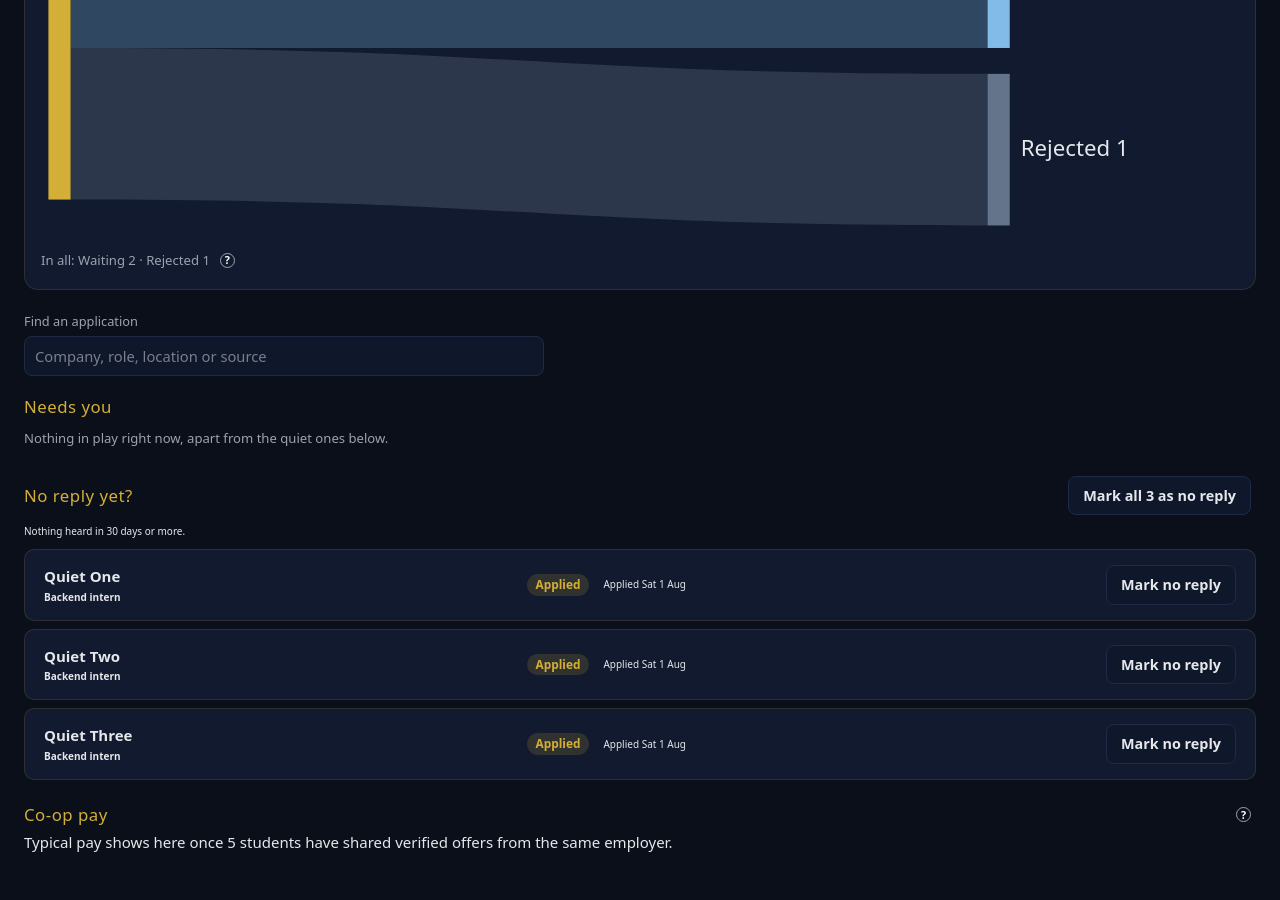
Test: marking every quiet one (D9) › says how far it got when one fails, and stops there
(page scrolled)
expect the text "Quiet One" is shown: met, box [44,565,120,588]
Click the button "Mark all 3 as no reply".
click(1160, 495)  # box [1068,476,1251,515]
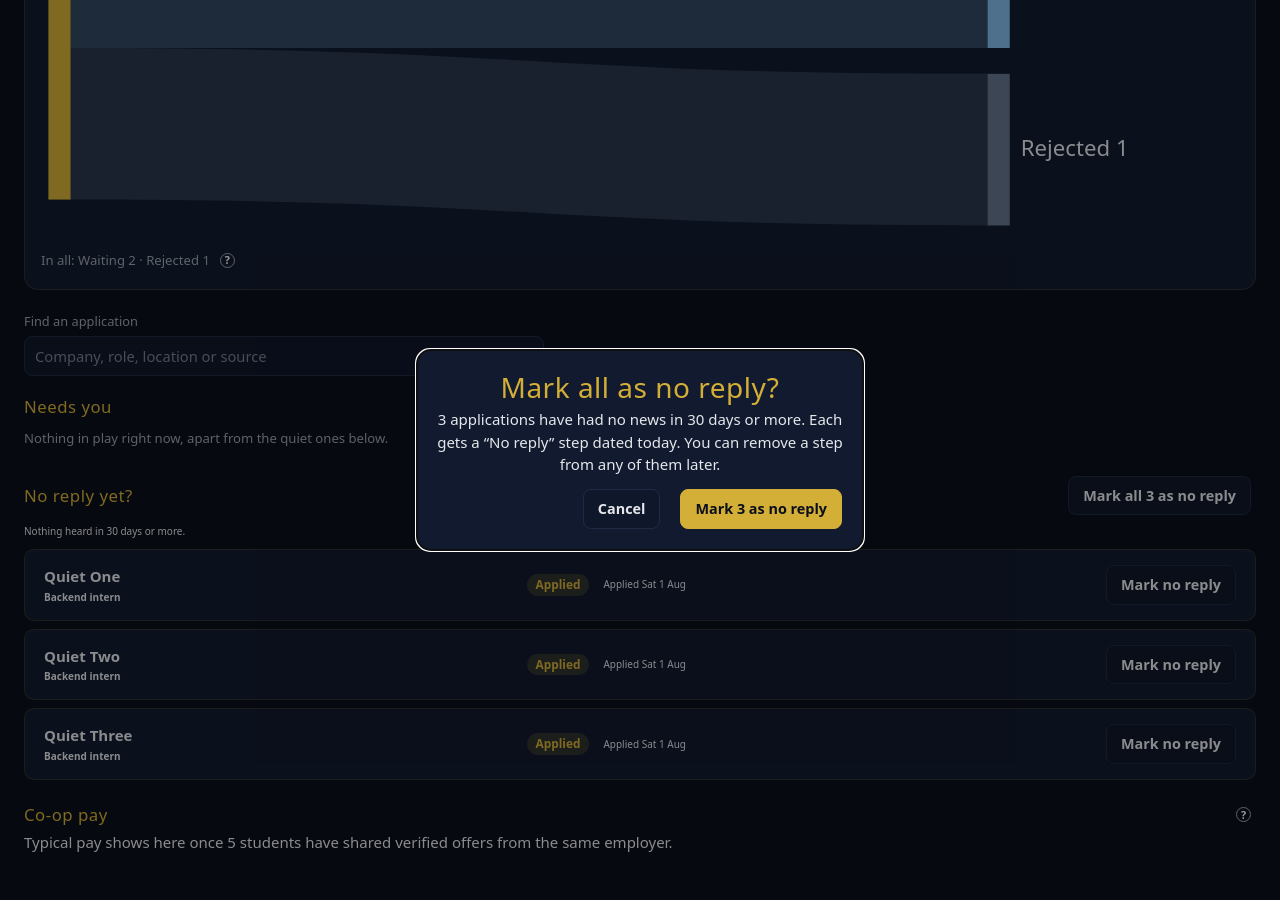
Click the button "Mark 3 as no reply".
click(761, 509)  # box [680,489,842,528]
(page scrolled)
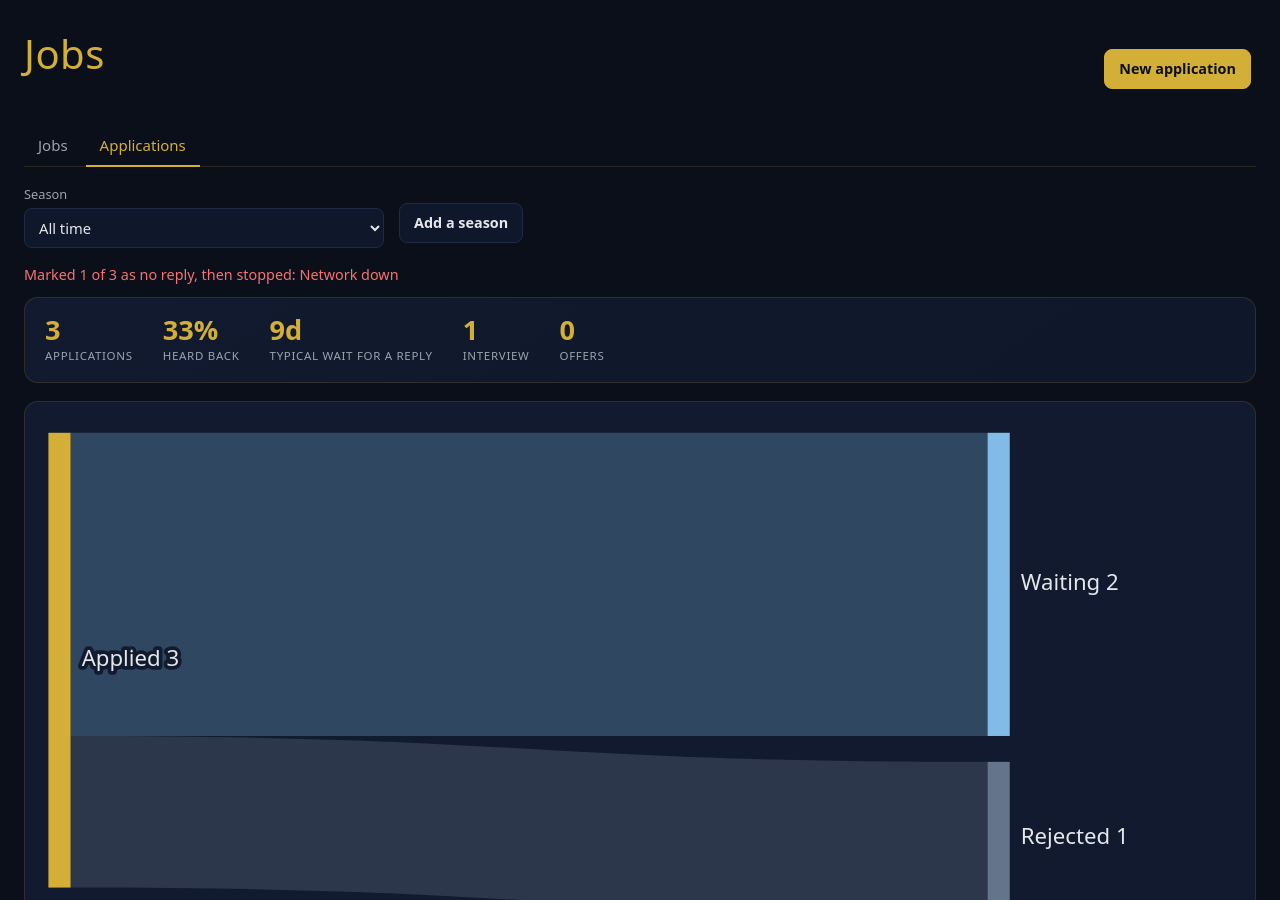
expect the message reads "Marked 1 of 3 as no reply, then stopped: Network down": met, box [24,265,399,284]
